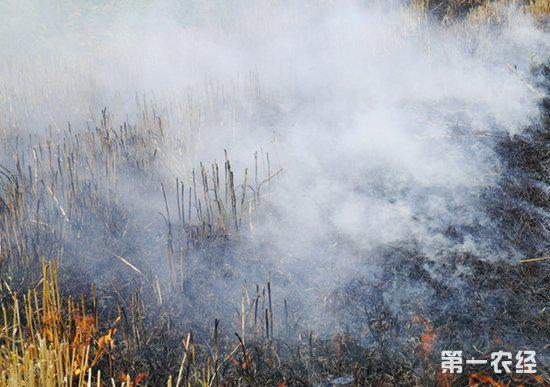fire: (29, 293, 117, 366), (450, 349, 548, 384), (410, 312, 438, 358), (115, 359, 151, 383), (237, 357, 248, 371)
